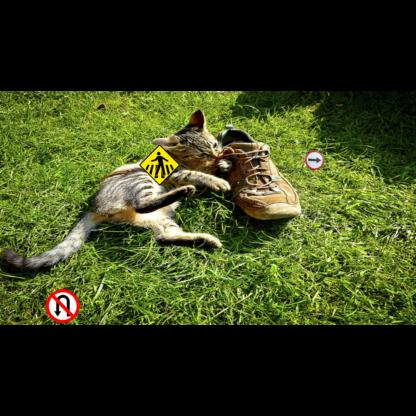A-32b: (139, 144, 180, 186)
R-24a: (305, 151, 324, 170)
R-5a: (46, 289, 80, 323)
